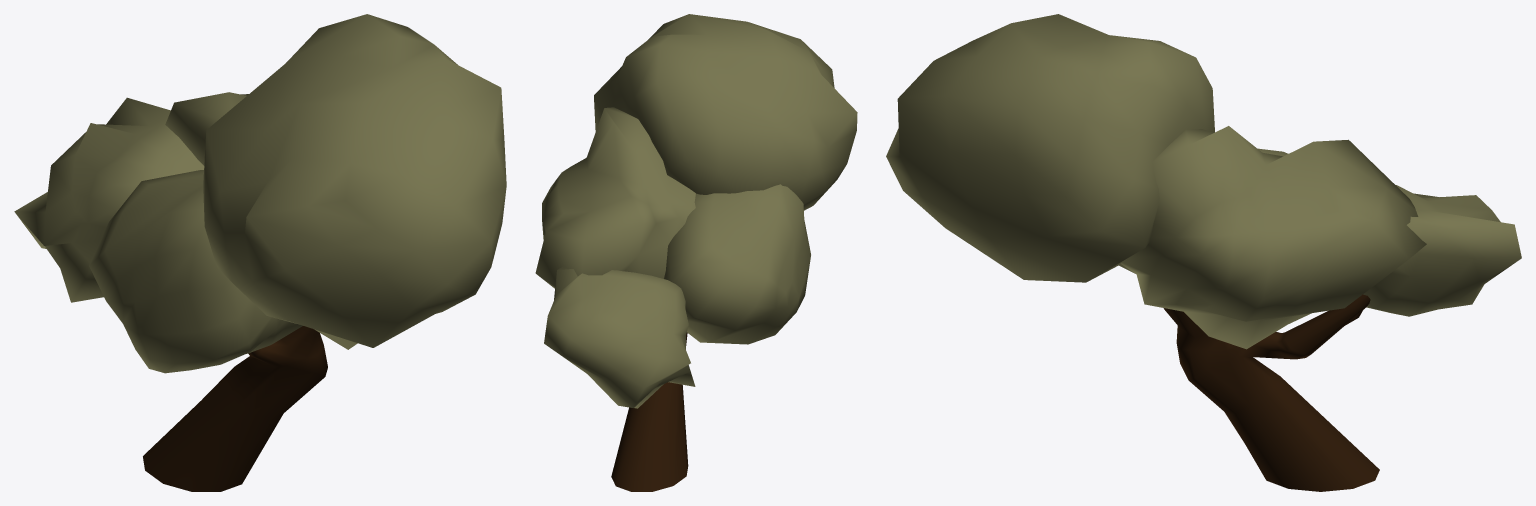
The model's file is DM_Tree5.fbx.
The picture shows the model from 3 angles, left to right: view 1: azimuth 30°, elevation 25°; view 2: azimuth 150°, elevation 25°; view 3: azimuth 270°, elevation 25°; orthographic projection. The views are drawn at different scales.
Parts seen in each view (by area): view 1: polySurface3, polySurface2, polySurface4, polySurface1, polySurface5; view 2: polySurface3, polySurface2, polySurface5, polySurface4, polySurface1; view 3: polySurface3, polySurface5, polySurface1, polySurface4.
Part boxes in pixels (bbox=[...]): polySurface3: bbox=[203, 14, 506, 349]; polySurface2: bbox=[89, 170, 302, 373]; polySurface4: bbox=[14, 97, 204, 302]; polySurface1: bbox=[143, 326, 327, 491]; polySurface5: bbox=[165, 92, 248, 165]; polySurface3: bbox=[594, 14, 857, 210]; polySurface2: bbox=[664, 184, 810, 344]; polySurface5: bbox=[535, 107, 695, 288]; polySurface4: bbox=[544, 266, 695, 408]; polySurface1: bbox=[611, 332, 688, 491]; polySurface3: bbox=[886, 14, 1214, 282]; polySurface5: bbox=[1121, 126, 1426, 349]; polySurface1: bbox=[1163, 294, 1379, 491]; polySurface4: bbox=[1363, 185, 1521, 316].
Bounding box in the file's own units: 2.51 × 3.73 × 4.61.
